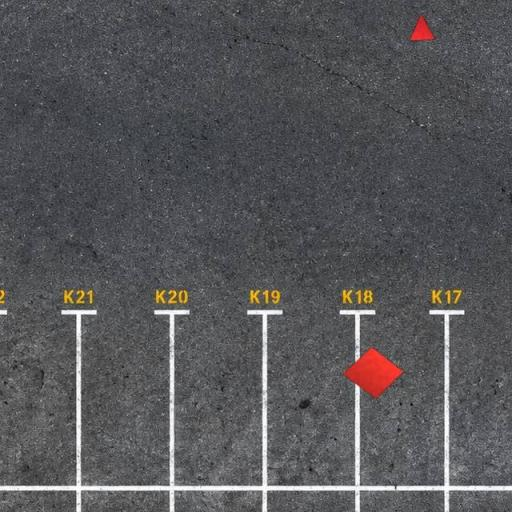RED_SQUARE: (342, 346, 404, 400)
